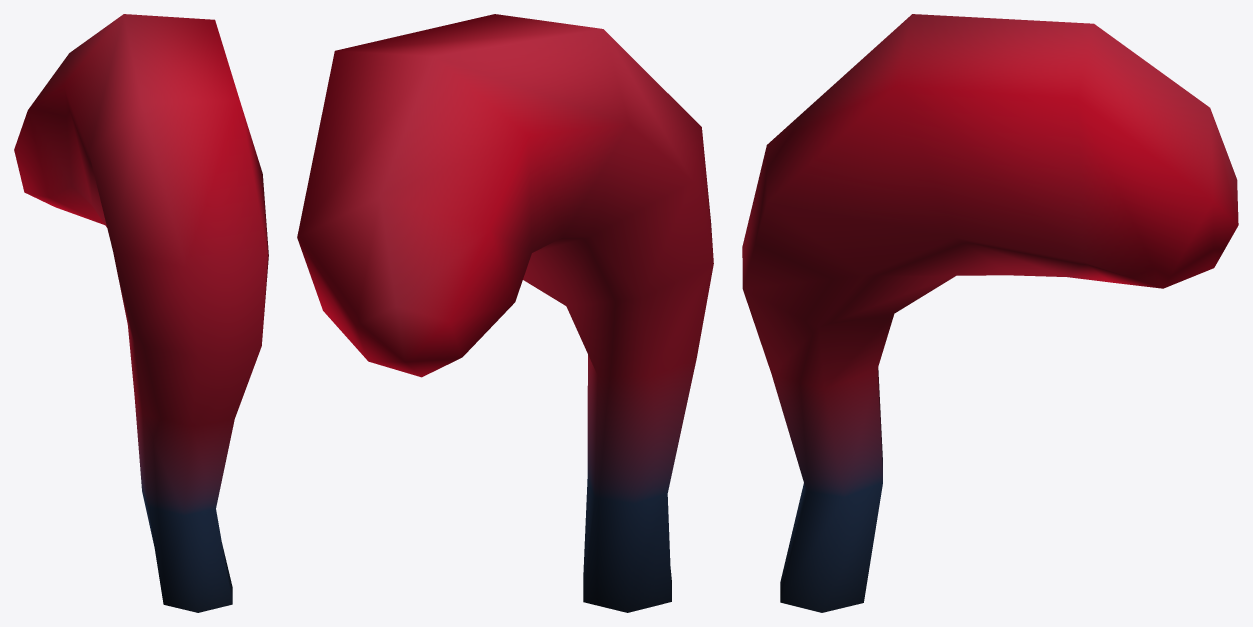
File: Alien_Bush08.fbx
The picture shows the model from 3 angles, left to right: view 1: azimuth 30°, elevation 25°; view 2: azimuth 150°, elevation 25°; view 3: azimuth 270°, elevation 25°; orthographic projection. The views are drawn at different scales.
Parts seen in each view (by area): view 1: Alien_Bush08; view 2: Alien_Bush08; view 3: Alien_Bush08.
Part boxes in pixels (x1,y1,x2,y2): Alien_Bush08: (14,14,268,612); Alien_Bush08: (297,14,713,612); Alien_Bush08: (742,14,1238,612).
Size of the model in its own units: 518 by 1193 by 906.
